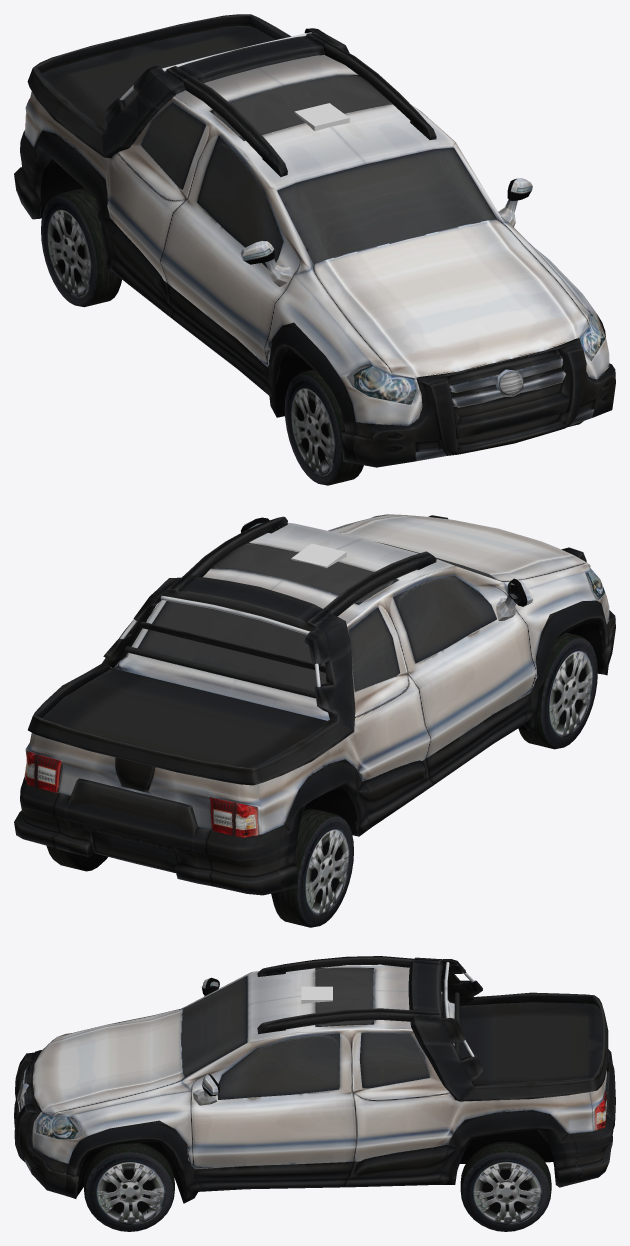
File: truck_vehicleCorpse.dae
3 renders of one model, top to bottom at view 1: azimuth 30°, elevation 25°; view 2: azimuth 150°, elevation 25°; view 3: azimuth 270°, elevation 25°, orthographic. The views are drawn at different scales.
Parts seen in each view (by area): view 1: center, glass, explo5, explo2, explo1, explo7, emitfire, explo6; view 2: center, explo5, glass, explo2, explo1, explo7, emitfire, explo3; view 3: center, glass, explo5, explo3, explo4, explo6, emitfire.
Boxes of the visible parts, x1=… form: center: x1=14, y1=26, x2=615, y2=467; glass: x1=141, y1=75, x2=497, y2=268; explo5: x1=27, y1=14, x2=436, y2=177; explo2: x1=41, y1=188, x2=121, y2=307; explo1: x1=284, y1=369, x2=363, y2=485; explo7: x1=240, y1=240, x2=292, y2=286; emitfire: x1=294, y1=103, x2=349, y2=130; explo6: x1=498, y1=178, x2=532, y2=226; center: x1=14, y1=514, x2=615, y2=895; explo5: x1=28, y1=516, x2=436, y2=785; glass: x1=138, y1=542, x2=496, y2=691; explo2: x1=271, y1=808, x2=353, y2=927; explo1: x1=518, y1=632, x2=597, y2=749; explo7: x1=496, y1=578, x2=532, y2=620; emitfire: x1=291, y1=543, x2=346, y2=568; explo3: x1=46, y1=846, x2=107, y2=871; center: x1=14, y1=965, x2=615, y2=1203; glass: x1=181, y1=968, x2=442, y2=1099; explo5: x1=257, y1=956, x2=608, y2=1101; explo3: x1=460, y1=1141, x2=551, y2=1231; explo4: x1=84, y1=1142, x2=174, y2=1231; explo6: x1=192, y1=1074, x2=219, y2=1105; emitfire: x1=301, y1=986, x2=332, y2=1003.
Size of the model in its own units: 1078 by 925 by 2488.
